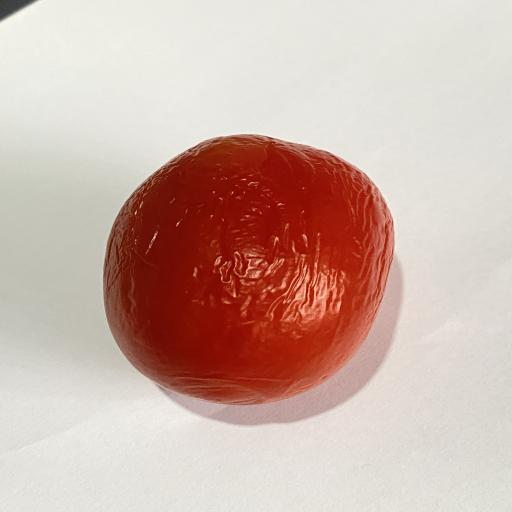spoiled: (213, 213, 215, 217)
